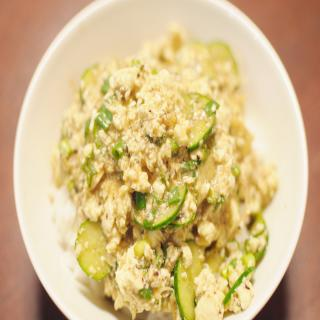Salad: (44, 21, 276, 320)
